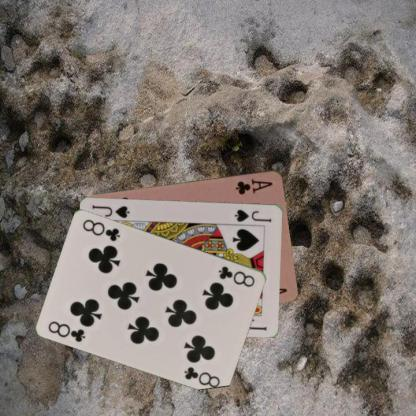8c: (46, 318, 89, 344), (216, 262, 257, 288)
Ac: (233, 176, 274, 196)
Js: (232, 206, 272, 223)
